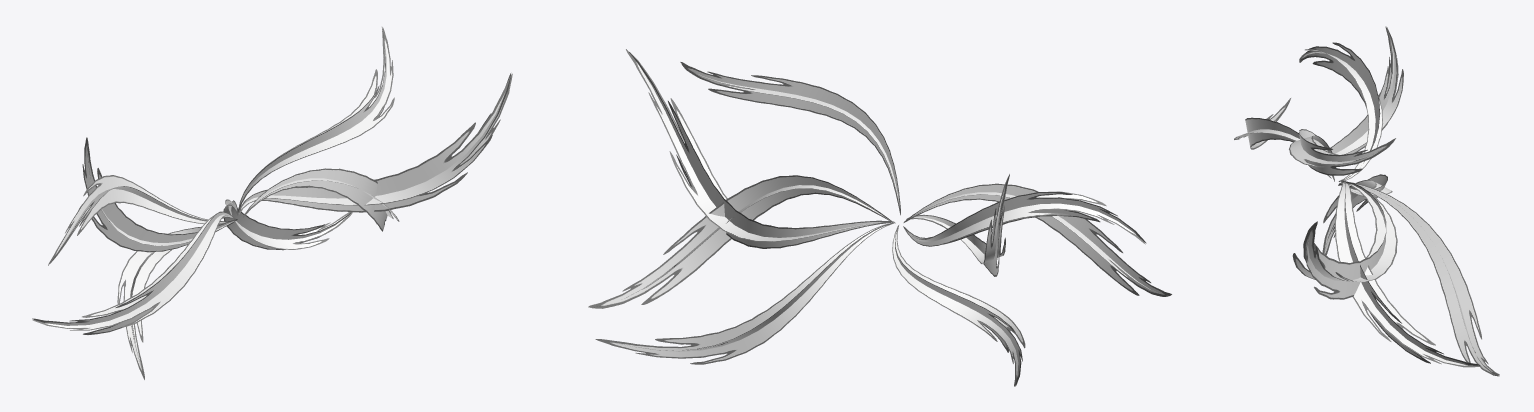
The model's file is fx_m10501_skill02_start.fbx.
The picture shows the model from 3 angles, left to right: view 1: azimuth 30°, elevation 25°; view 2: azimuth 150°, elevation 25°; view 3: azimuth 270°, elevation 25°; orthographic projection. The views are drawn at different scales.
Visible parts, largest first — view 1: helix; view 2: helix; view 3: helix.
Part boxes in pixels (x1,y1,x2,y2): helix: (32, 27, 512, 379); helix: (588, 49, 1171, 386); helix: (1234, 26, 1499, 376).
Bounding box in the file's own units: 5072 × 2645 × 2446.
Materials: 1 (1 with a texture image).
